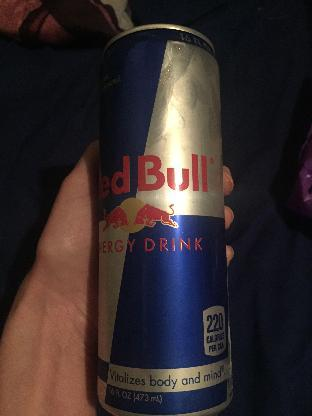Can: (91, 24, 233, 416)
